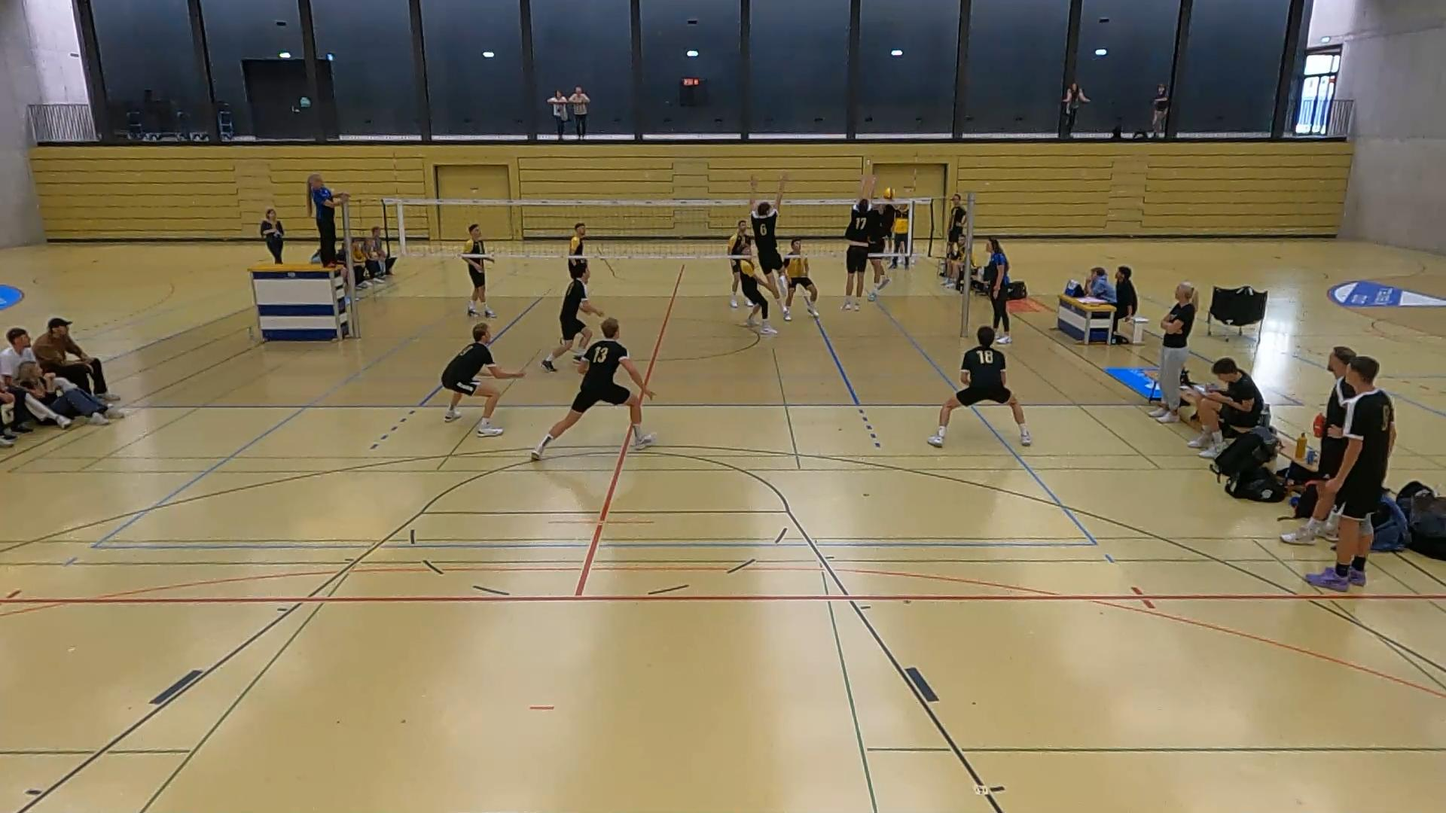attacco: (867, 182, 894, 301)
muro: (743, 169, 800, 323), (836, 175, 897, 315)
